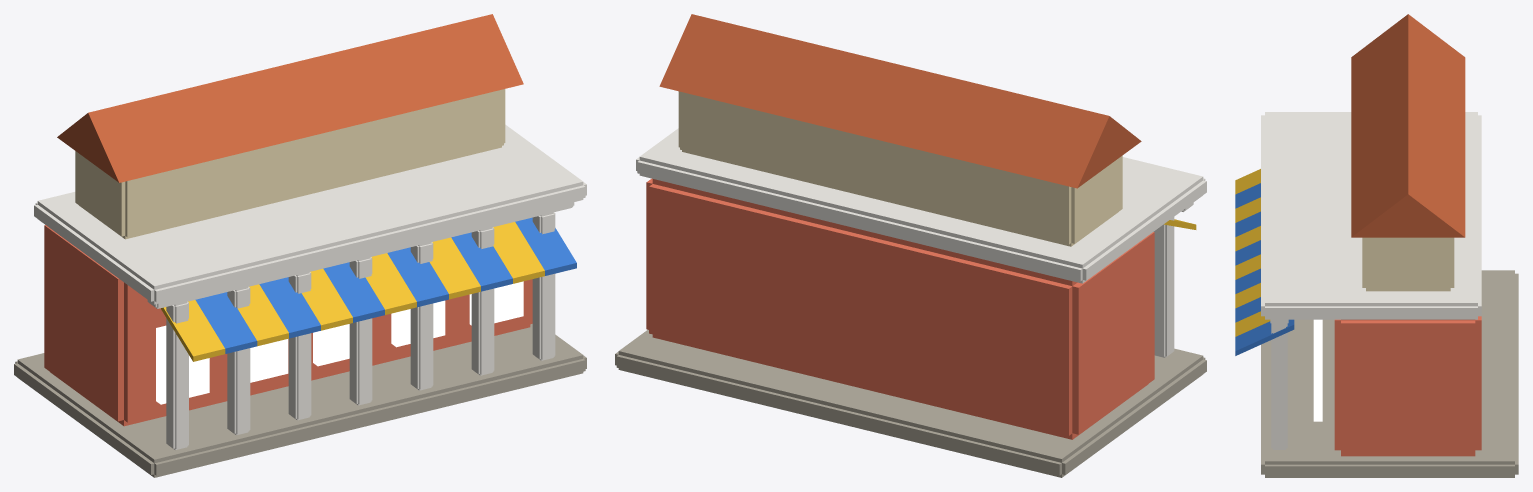
The model's file is arcade.glb.
3 views of the same model, side by side, from view 1: azimuth 30°, elevation 25°; view 2: azimuth 150°, elevation 25°; view 3: azimuth 270°, elevation 25° (orthographic). The views are drawn at different scales.
Visible parts, largest first — view 1: arcade; view 2: arcade; view 3: arcade.
Boxes of the visible parts, bbox=[...] form: arcade: bbox=[14, 14, 586, 477]; arcade: bbox=[615, 14, 1206, 477]; arcade: bbox=[1235, 14, 1518, 477].
Size of the model in its own units: 2.5 by 1.67 by 1.54.
